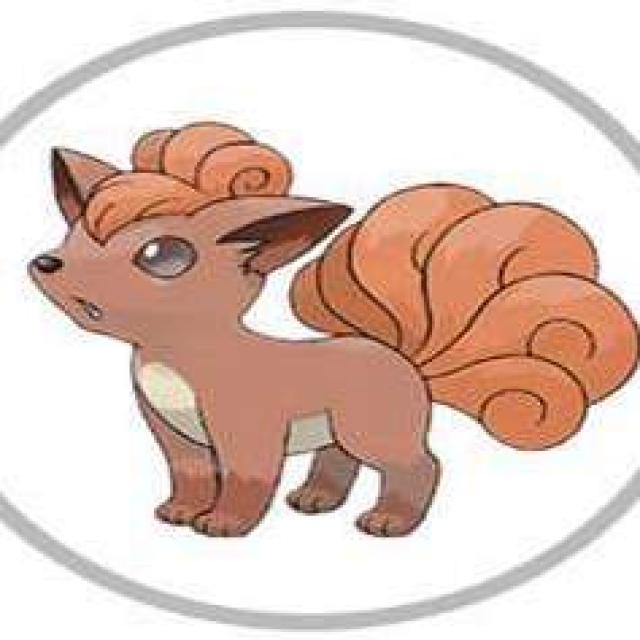Vulpix: (39, 136, 444, 533)
